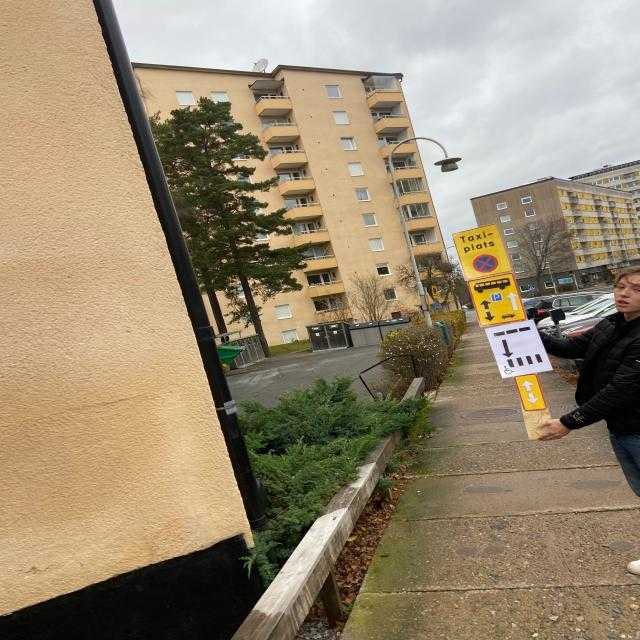lastplats: (454, 226, 514, 284)
